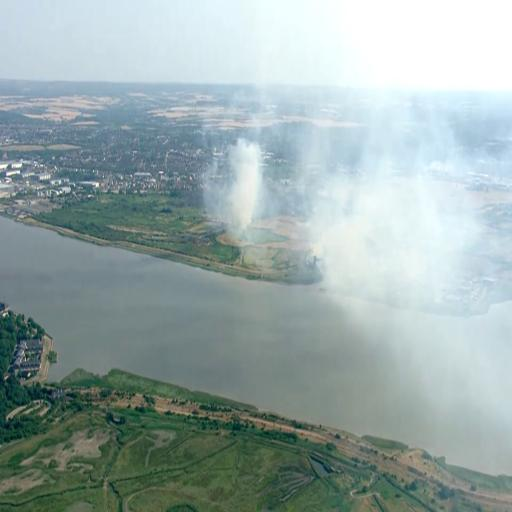smoke: (222, 144, 270, 239)
